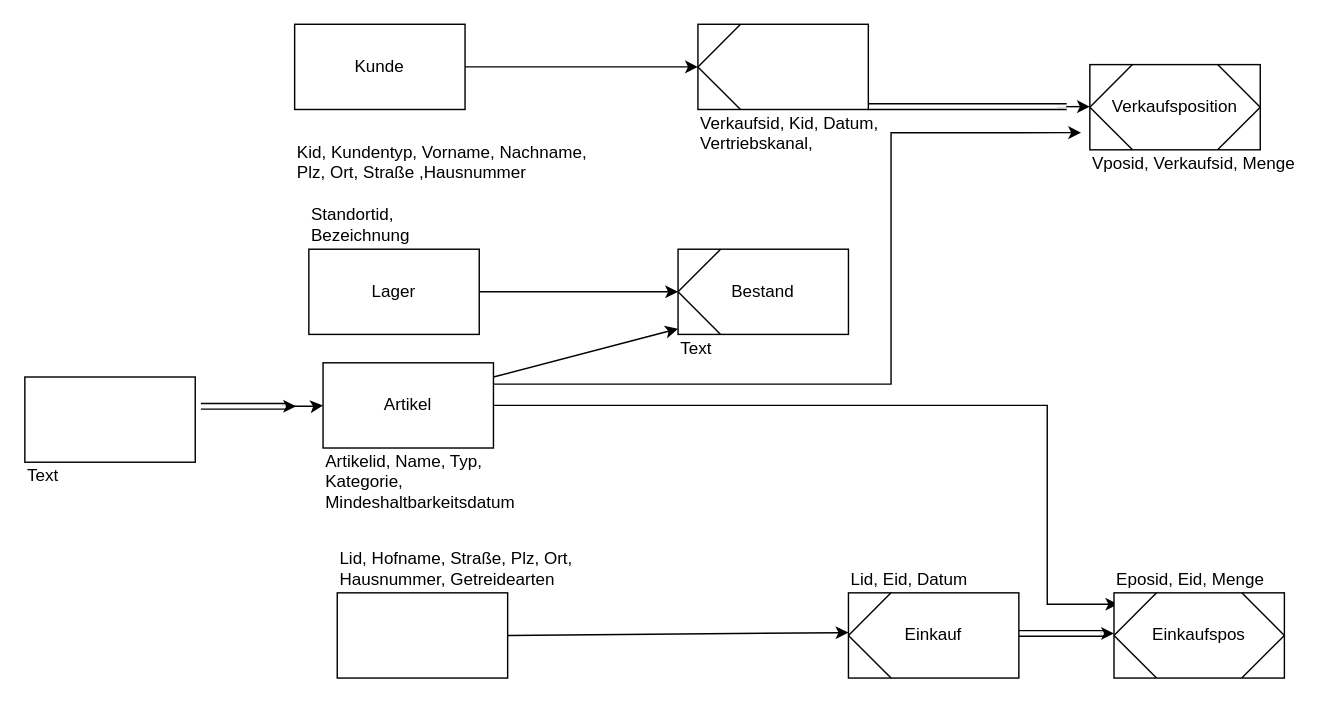
Image size: 1328x706. Some labels were removed from this diagram. The shapes that lost their labels are listed below. From the top down, each one's box as (x1, y1, x2, y2) in pixels, then its label:
(697, 23, 868, 109): Verkauf
(23, 376, 195, 462): Artikeltyp
(336, 591, 508, 678): Lieferant ( Landwirt)
